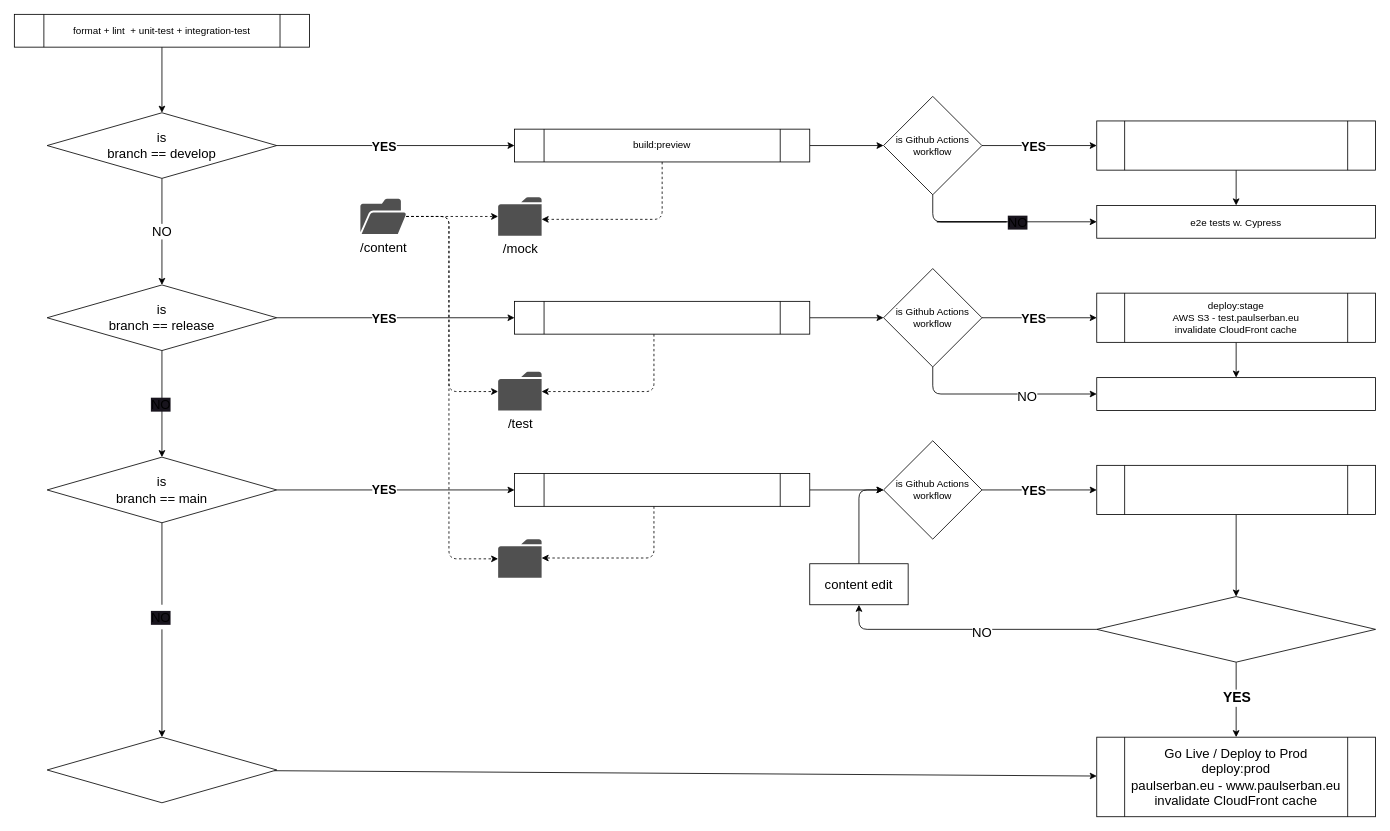
The diagram is 1390 pixels wide and 831 high, and some of its shapes have lost their labels. Each missing label, with the centre of its shape:
"/prod" goes at (x=519, y=558).
"build:production" goes at (x=662, y=489).
"build:stage" goes at (x=662, y=317).
"deploy:preview AWS S3 - develop.paulserban.eu invalidate CloudFront cache" goes at (x=1236, y=145).
"deploy:stage AWS S3 - stage.paulserban.eu invalidate CloudFront cache" goes at (x=1236, y=490).
"is branch == production" goes at (x=161, y=769).
"passed manual checking" goes at (x=1236, y=629).
"UAT testing" goes at (x=1236, y=393).
